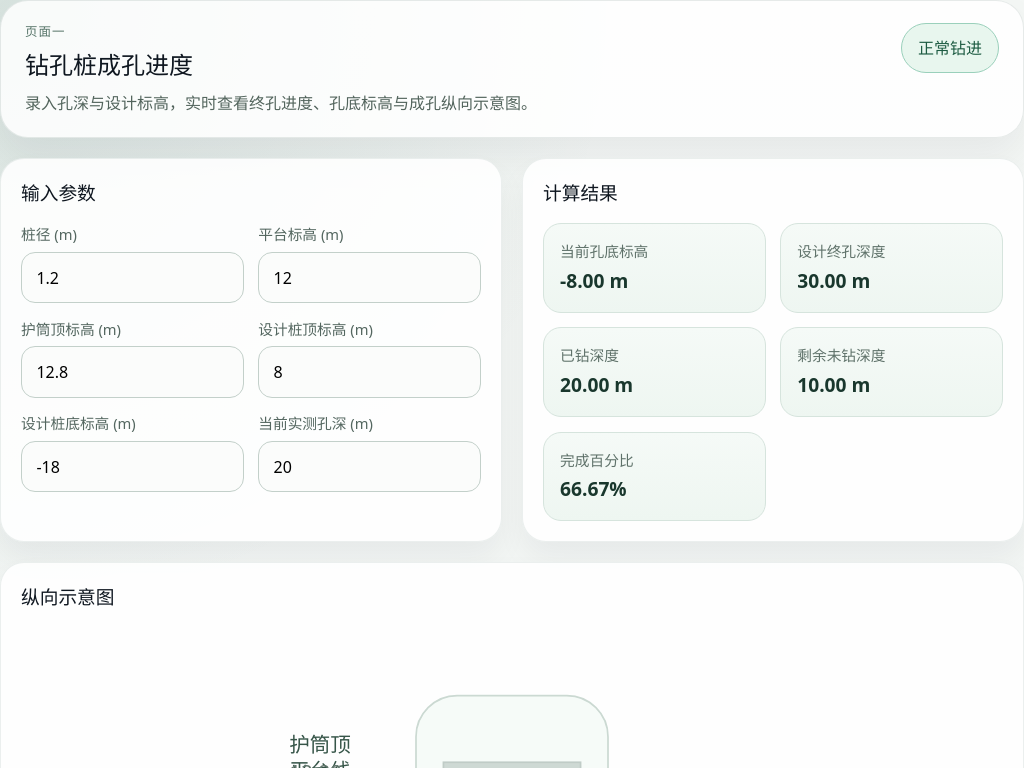
updates drilling results when depth changes
The width and height of the screenshot is (1024, 768).
Click the field labelled "当前实测孔深 (m)": coordinates (370, 467) [258,441,481,492]
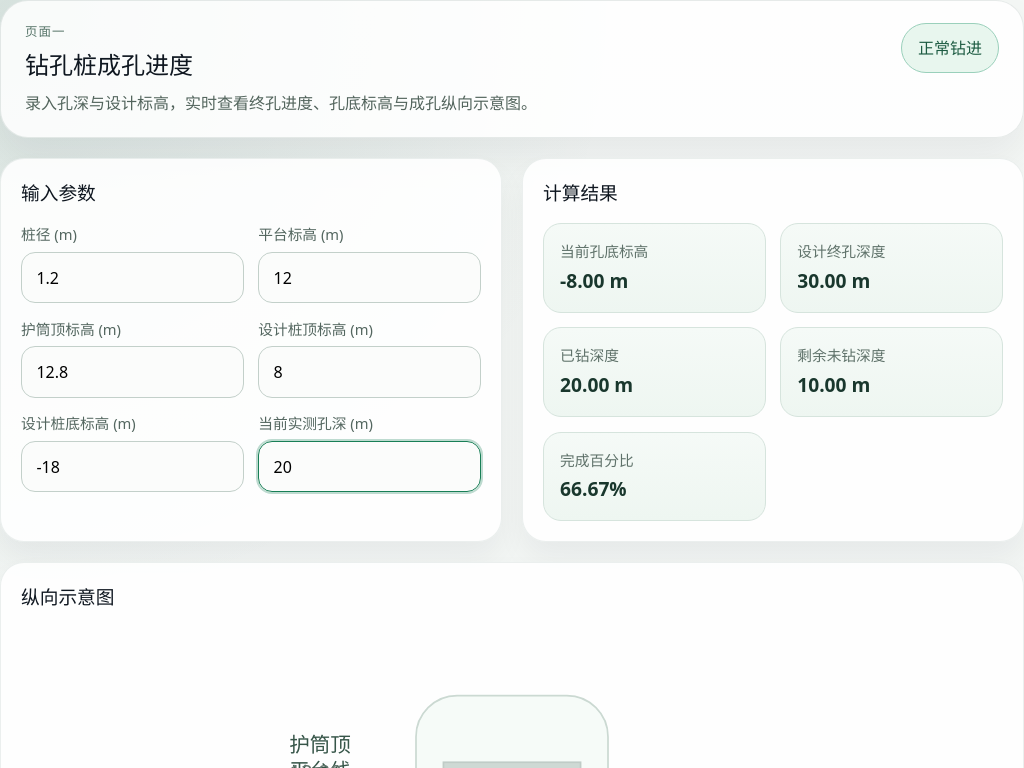
Type keys "{Control>}a{/Control}30"
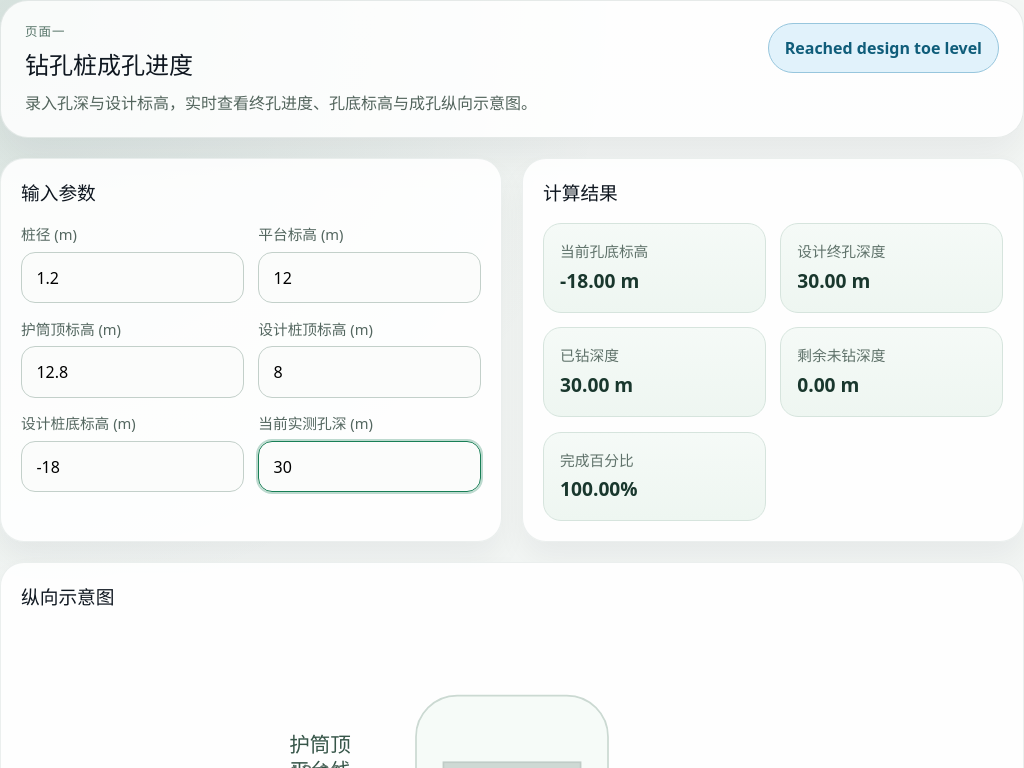
expect the text "Reached design toe level" is shown: met, box [768,23,999,73]
expect the text "100.00%" is shown: met, box [560,475,638,502]
